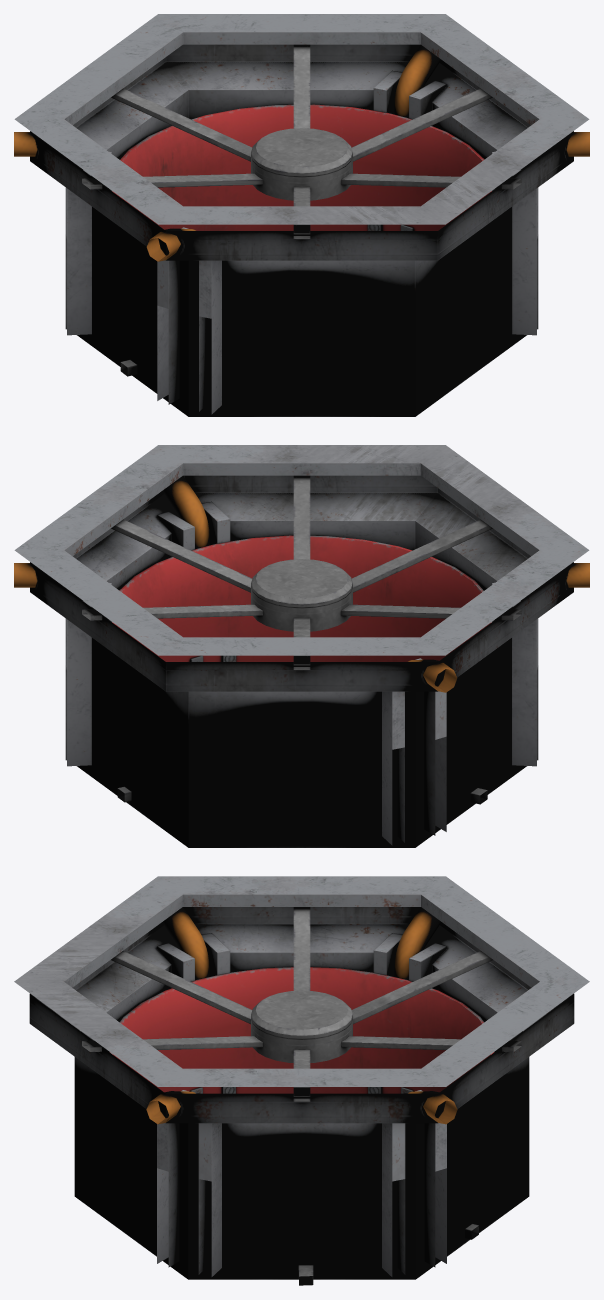
Rendered from HexFanHousing.dae.
3 renders of one model, top to bottom at view 1: azimuth 30°, elevation 25°; view 2: azimuth 150°, elevation 25°; view 3: azimuth 270°, elevation 25°, orthographic.
Visible parts, largest first — view 1: HexFanHousing; view 2: HexFanHousing; view 3: HexFanHousing.
Boxes of the visible parts, x1,y1,x2,y2 form: HexFanHousing: (14,14,589,416); HexFanHousing: (14,445,589,847); HexFanHousing: (14,876,589,1285).
Bounding box in the file's own units: 11.78 × 13.23 × 5.45.
1 material, 1 textured.
